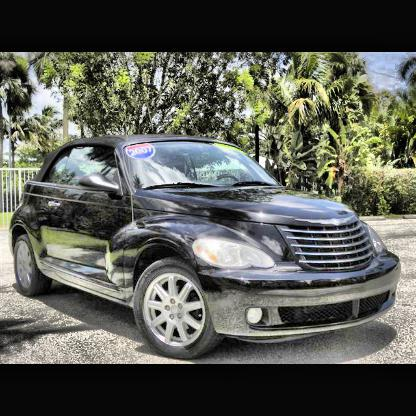Chrysler PT Cruiser Convertible 2008: (10, 128, 405, 362)
